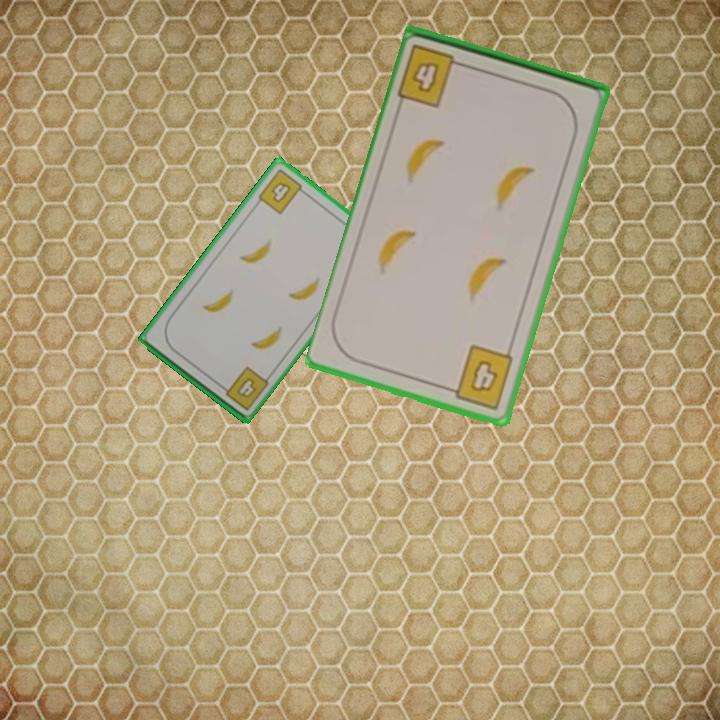4b: (442, 341, 517, 413), (394, 41, 471, 111), (254, 165, 310, 217), (216, 362, 272, 413)
